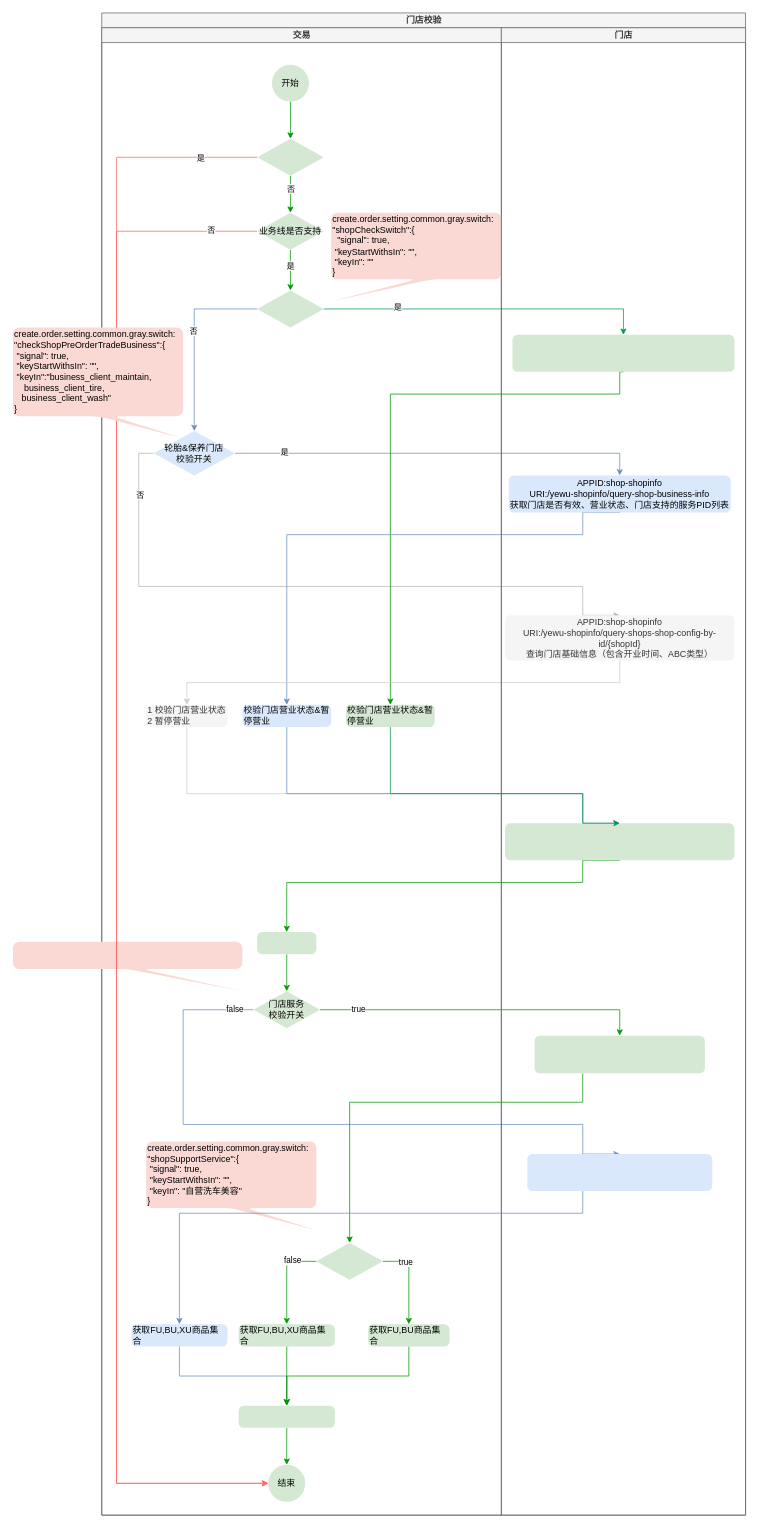
This 759x1528 diagram has some shape labels left out. Each missing label, with the box of its shape:
APPID:shop-extendinfo URI:/yewu-shopserver/query-shop-service-list 门店支持服务商品: (527, 1154, 712, 1191)
APPID:shop-extendinfo URI:/yewu/shop-service/get-shop-services 门店支持服务商品(包含洗美): (534, 1035, 704, 1073)
APPID:shop-shopinfo URI:/cl-shopinfo/query-shop-orders-count 查询门店约单量爆单量: (505, 823, 734, 860)
APPID:shop-shopinfo URI:/yewu/common/get-shop-place-order-status 获取门店下单相关信息: (512, 334, 734, 371)
create.order.setting.checkShopSupportWashTrigger:true: (13, 941, 242, 991)
排除虚拟 校验开关: (316, 1242, 383, 1279)
是否虚拟门店: (257, 138, 323, 175)
校验门店支持服务商品: (238, 1405, 334, 1427)
校验门店爆单: (257, 932, 316, 954)
门店检查开关: (257, 290, 323, 327)
